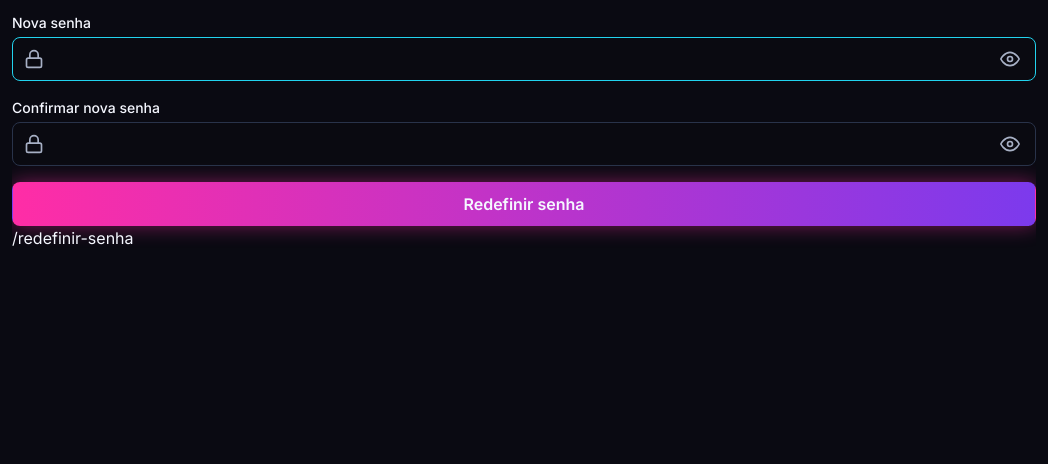
Test: ResetPasswordForm (AUTH-003) › CA-014: token recusado pelo servidor leva ao estado de link invalido
This screenshot has width=1048, height=464.
In the password field labelled "Nova senha": (524,59) [12, 37, 1036, 81], type "Nova-Frase-Longa-Segura-1"
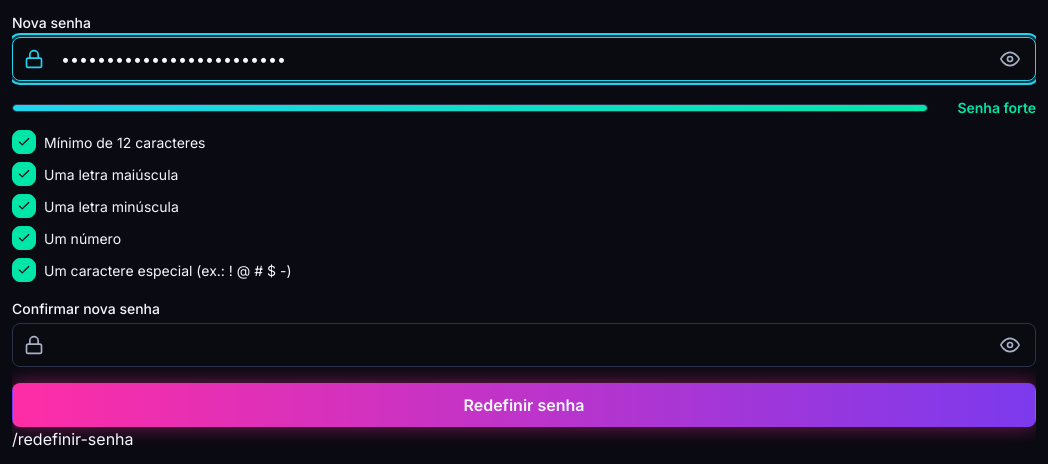
In the password field labelled "Confirmar nova senha": (524,345) [12, 323, 1036, 367], type "Nova-Frase-Longa-Segura-1"
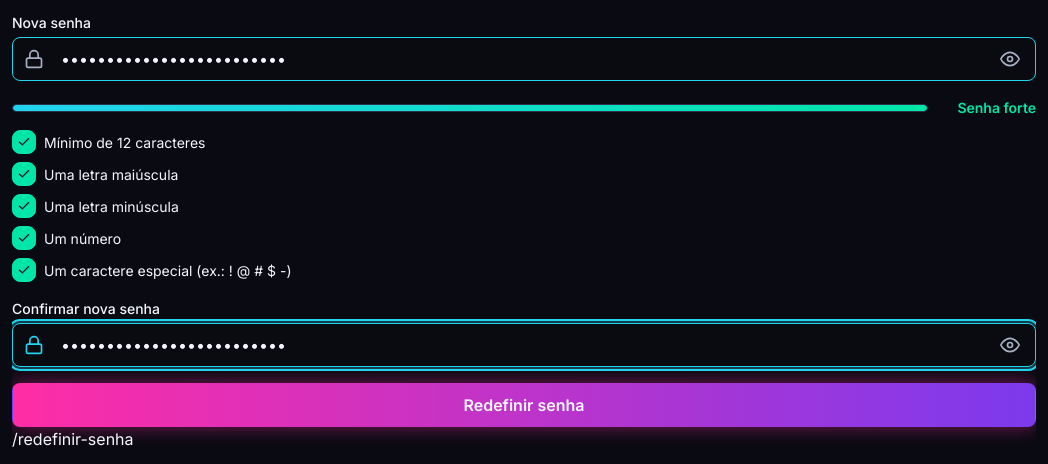
Click the button "Redefinir senha": (524,405) [12, 383, 1036, 427]
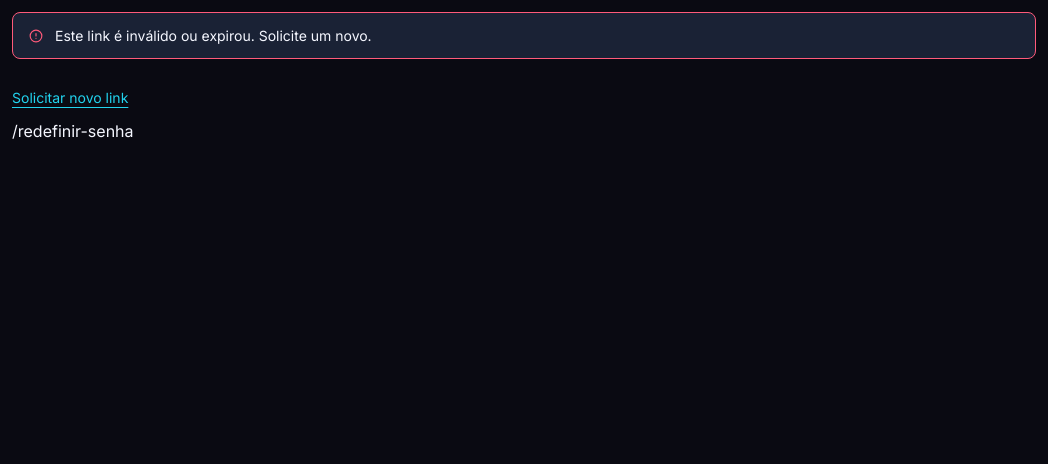
Now the message shows "inválido ou expirou", box [55, 27, 372, 44]
Now the link "Solicitar novo link" is shown, box [12, 88, 128, 106]
